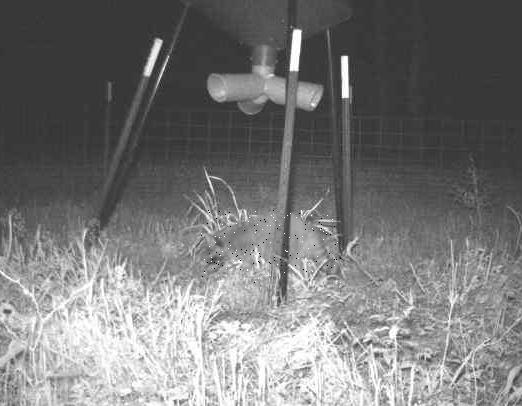Raccoon: (200, 211, 341, 284)
